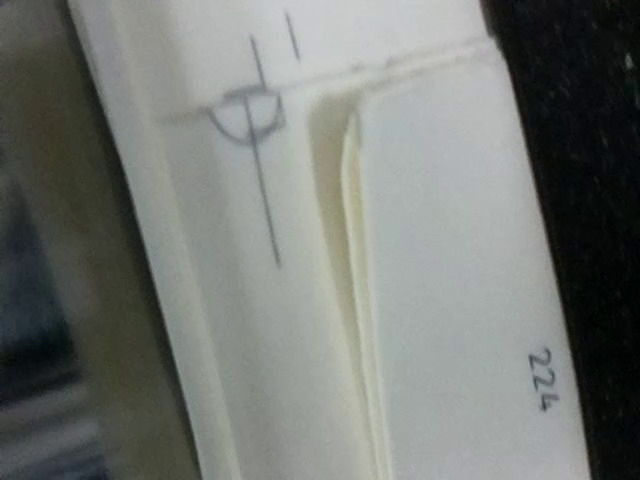misaligned: (160, 32, 320, 160)
